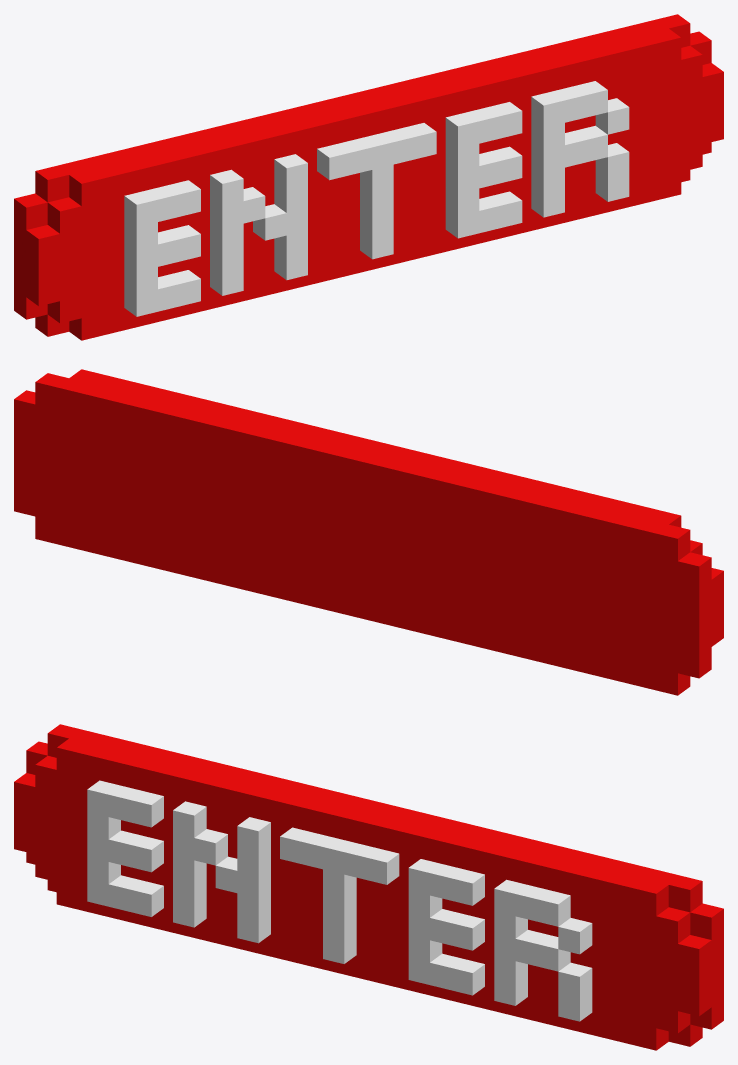
Rendered from enter.obj.
The picture shows the model from 3 angles, top to bottom: view 1: azimuth 30°, elevation 25°; view 2: azimuth 150°, elevation 25°; view 3: azimuth 330°, elevation 25°; orthographic projection.
Visible parts, largest first — view 1: enter; view 2: enter; view 3: enter.
Part boxes in pixels (x1,y1,x2,y2): enter: (14,14,723,340); enter: (14,369,723,695); enter: (14,724,723,1050).
Size of the model in its own units: 32 by 7 by 3.
Materials: 1 (1 with a texture image).
